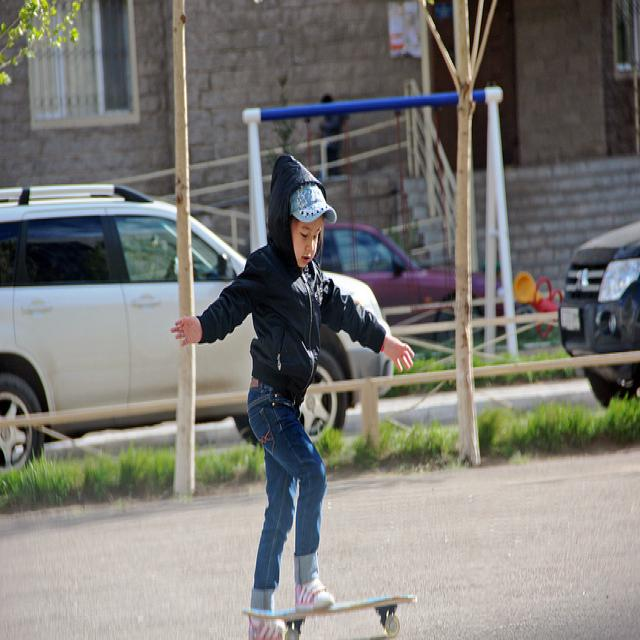Vehicle: (1, 187, 395, 473), (561, 222, 640, 404), (316, 222, 483, 307)
